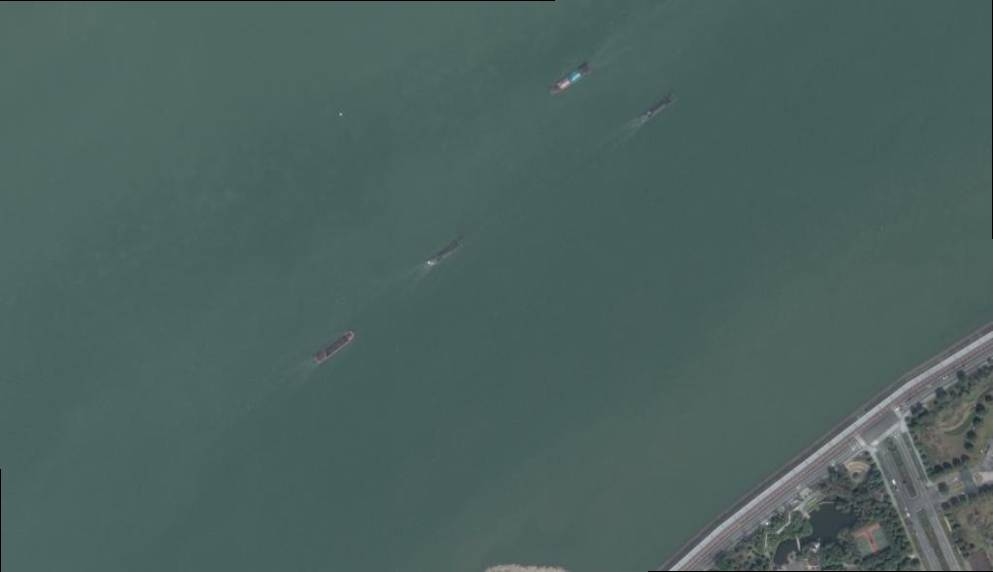ship: (547, 60, 595, 96), (312, 328, 356, 366), (637, 90, 679, 123), (426, 236, 465, 266)
